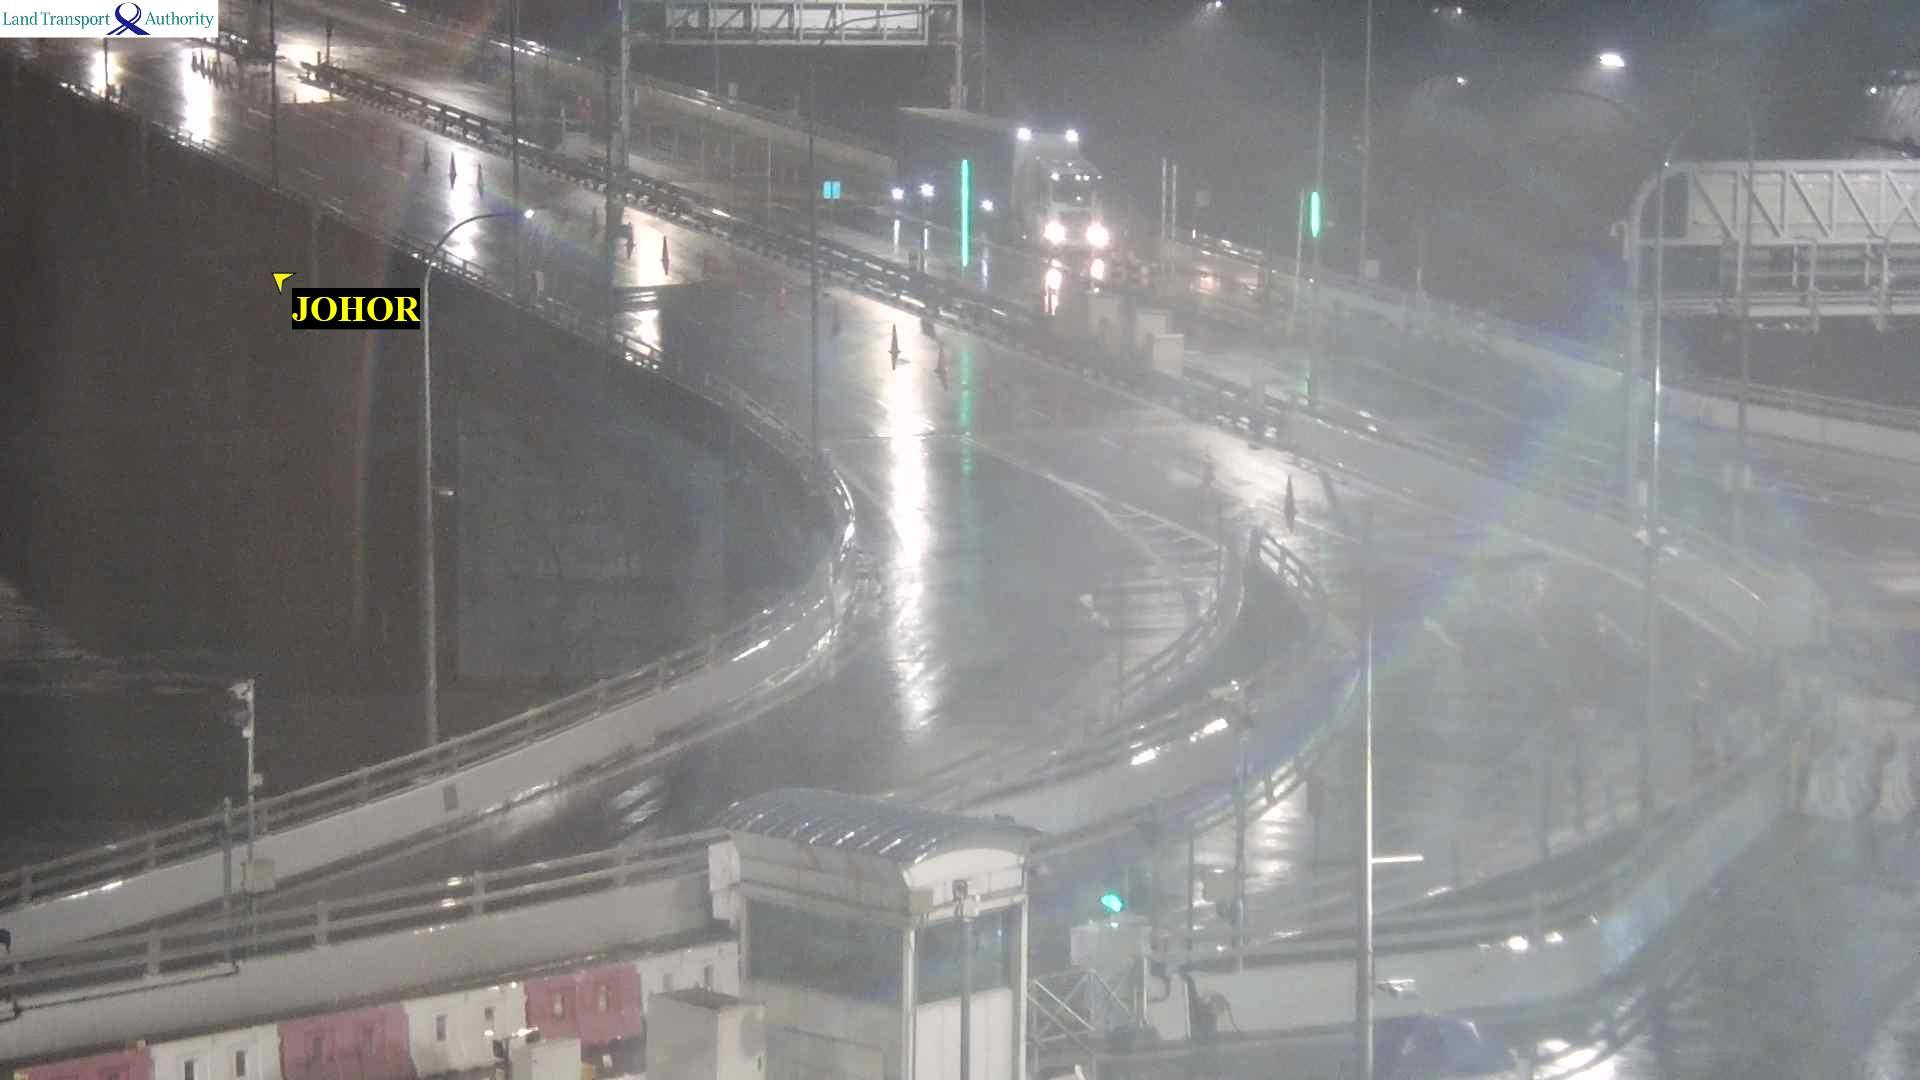vehicle-secondlink-singapore: (898, 107, 1108, 257)
